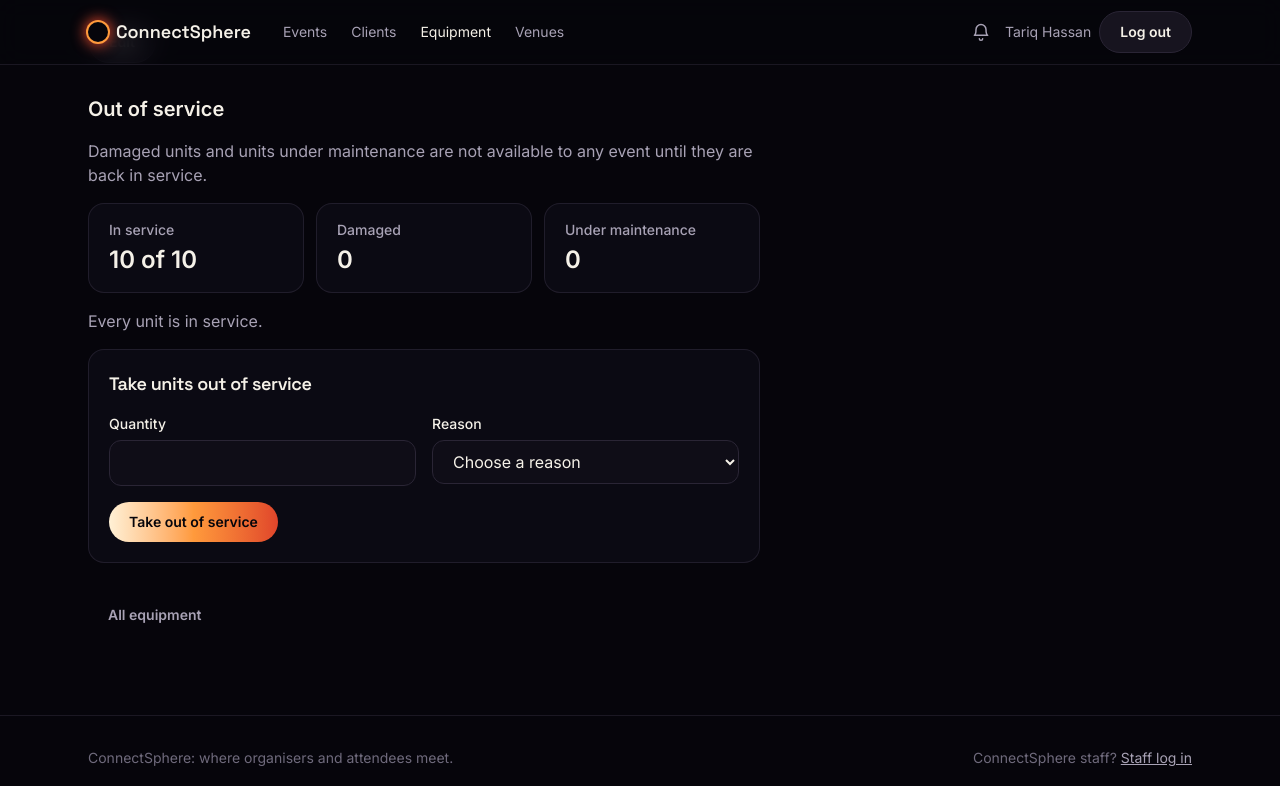
Scenario: SCRUM-47 units out of service on an equipment type page › names a single unit in the singular
(page scrolled)
Step 1. Type "1" into the number field labelled "Quantity" → (262, 463), box [109,440,416,486]
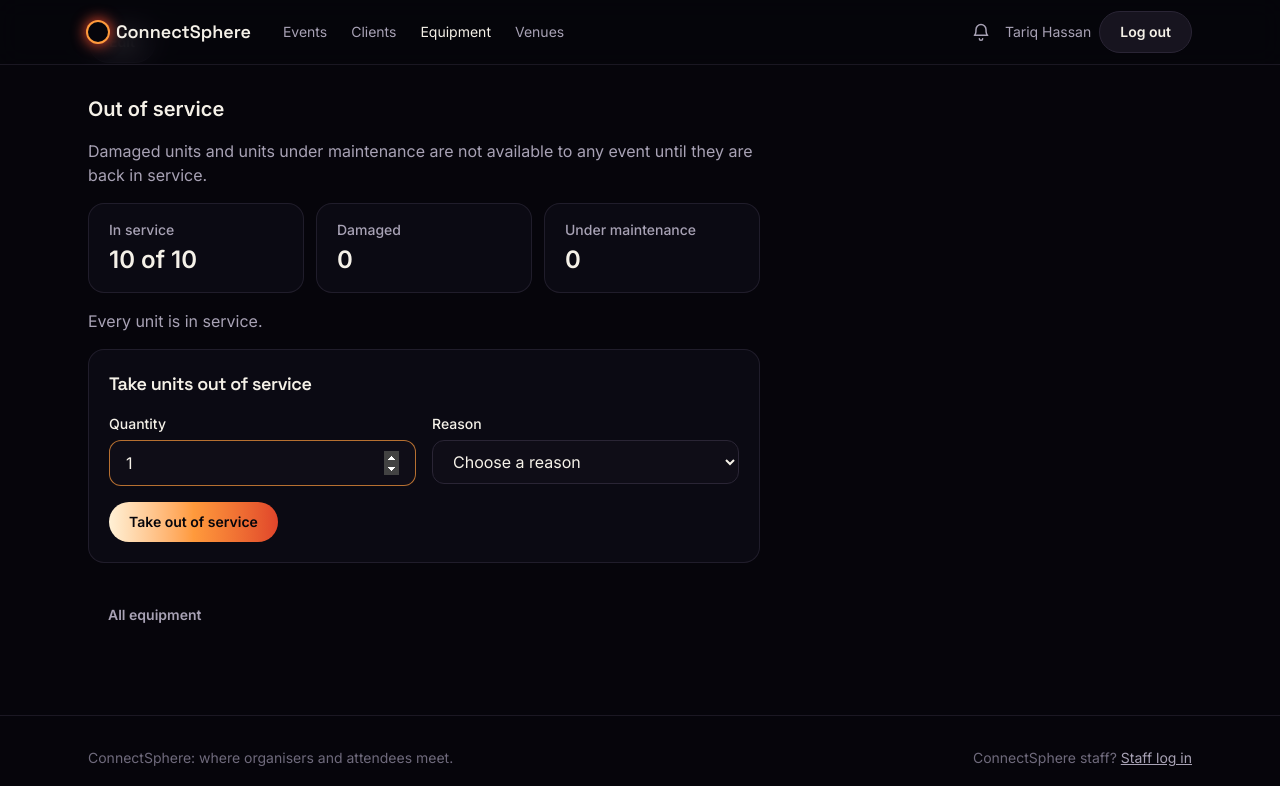
Step 2. Select "Under maintenance" in the dropdown labelled "Reason" → (586, 462), box [432,440,739,484]
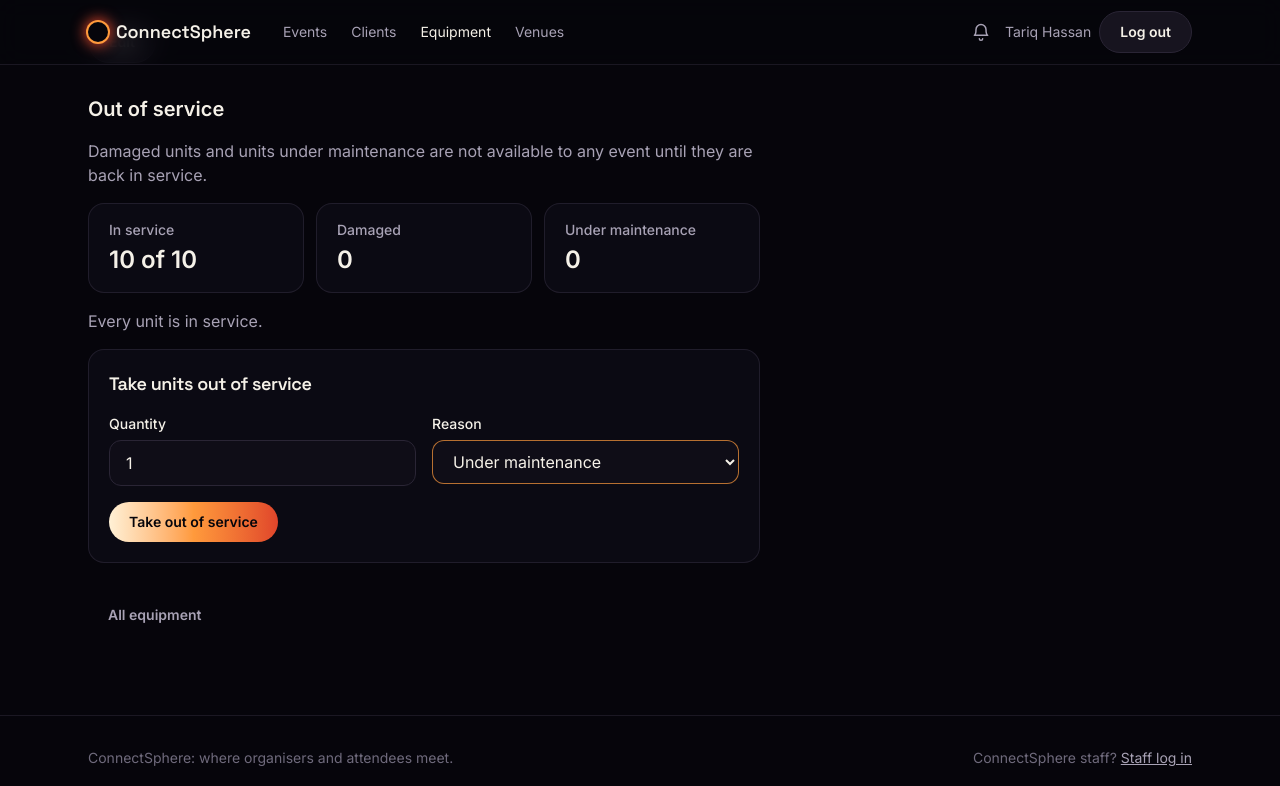
Step 3. Click the button "Take out of service" → (193, 522), box [109,502,278,542]
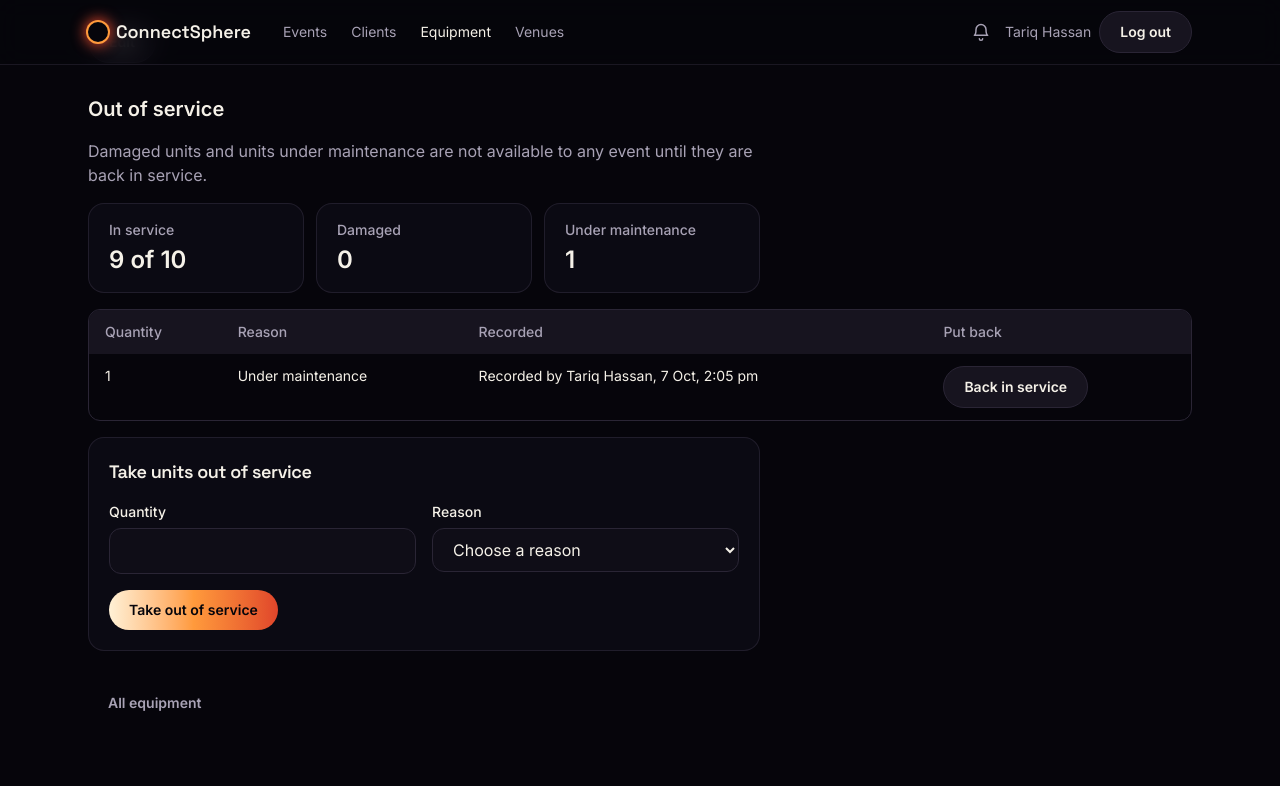
Step 4. Click the button with aria-label "Put 1 Under maintenance unit back in service" → (1016, 387), box [943,366,1088,408]
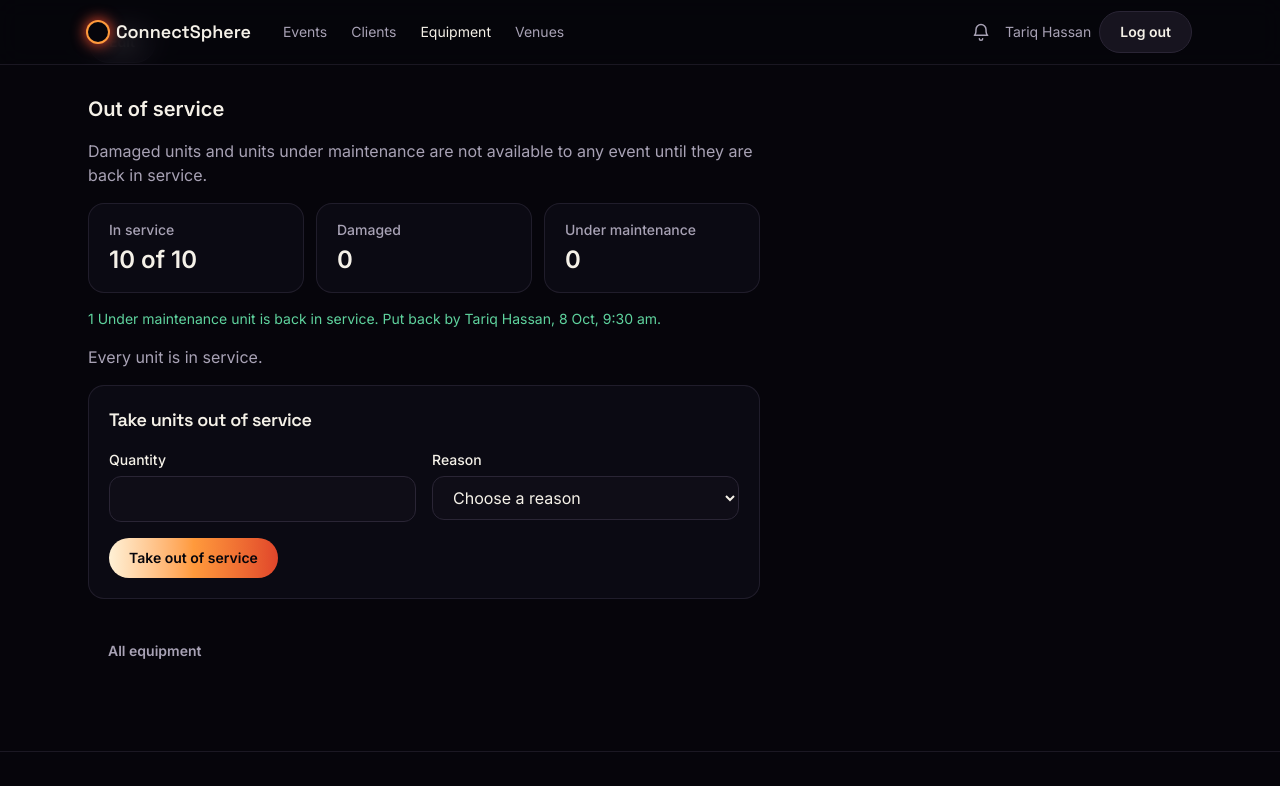
Check: the message shows "1 Under maintenance unit is back in service.", box [88,310,661,327]
